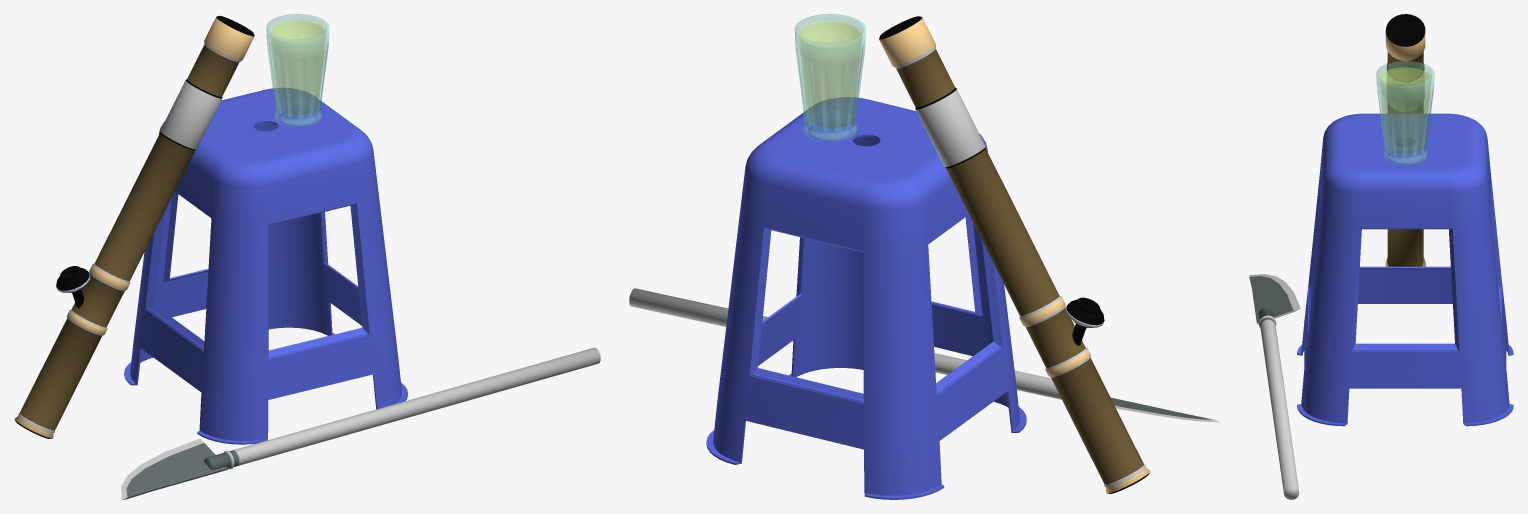
The model's file is ha_noi_specialities.glb.
3 renders of one model, left to right at view 1: azimuth 30°, elevation 25°; view 2: azimuth 150°, elevation 25°; view 3: azimuth 270°, elevation 25°, orthographic. The views are drawn at different scales.
Parts seen in each view (by area): view 1: Plane.028_1, Cylinder.007_4, Plane.029_0, Cylinder.010_3, Cylinder.017_2; view 2: Plane.028_1, Cylinder.007_4, Cylinder.010_3, Cylinder.017_2, Plane.029_0; view 3: Plane.028_1, Cylinder.007_4, Cylinder.010_3, Plane.029_0, Cylinder.017_2.
Part boxes in pixels (<box>): Plane.028_1: <box>124,88,407,444</box>; Cylinder.007_4: <box>14,15,254,438</box>; Plane.029_0: <box>121,347,600,499</box>; Cylinder.010_3: <box>266,14,329,126</box>; Cylinder.017_2: <box>271,21,324,104</box>; Plane.028_1: <box>706,97,1026,499</box>; Cylinder.007_4: <box>879,16,1150,493</box>; Cylinder.010_3: <box>795,14,865,141</box>; Cylinder.017_2: <box>800,22,860,116</box>; Plane.029_0: <box>629,288,1219,422</box>; Plane.028_1: <box>1297,113,1513,426</box>; Cylinder.007_4: <box>1385,14,1425,266</box>; Cylinder.010_3: <box>1376,61,1434,164</box>; Plane.029_0: <box>1249,274,1300,499</box>; Cylinder.017_2: <box>1381,67,1429,144</box>.
Bounding box in the file's own units: 11.61 × 8.11 × 5.59.
